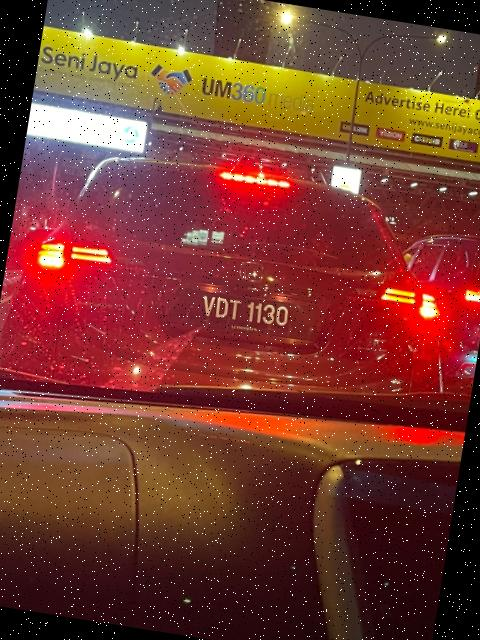License_Plate: (180, 287, 307, 339)
car: (5, 125, 477, 453)
